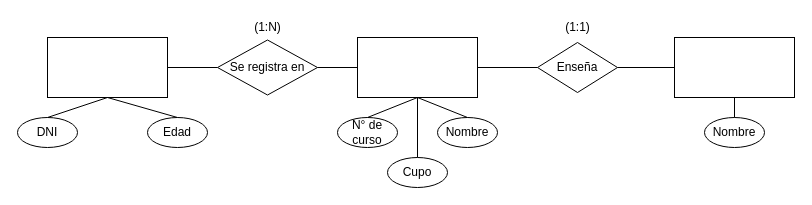
Some shapes in this 812 by 205 pixel diagram are drawn without their labels. The shapes that lost their labels are listed below. From the top down, each one's centre as x and y in pixels, then its label:
At point (107, 67): "Estudiante".
At point (417, 67): "Curso".
At point (734, 67): "Profesor".
